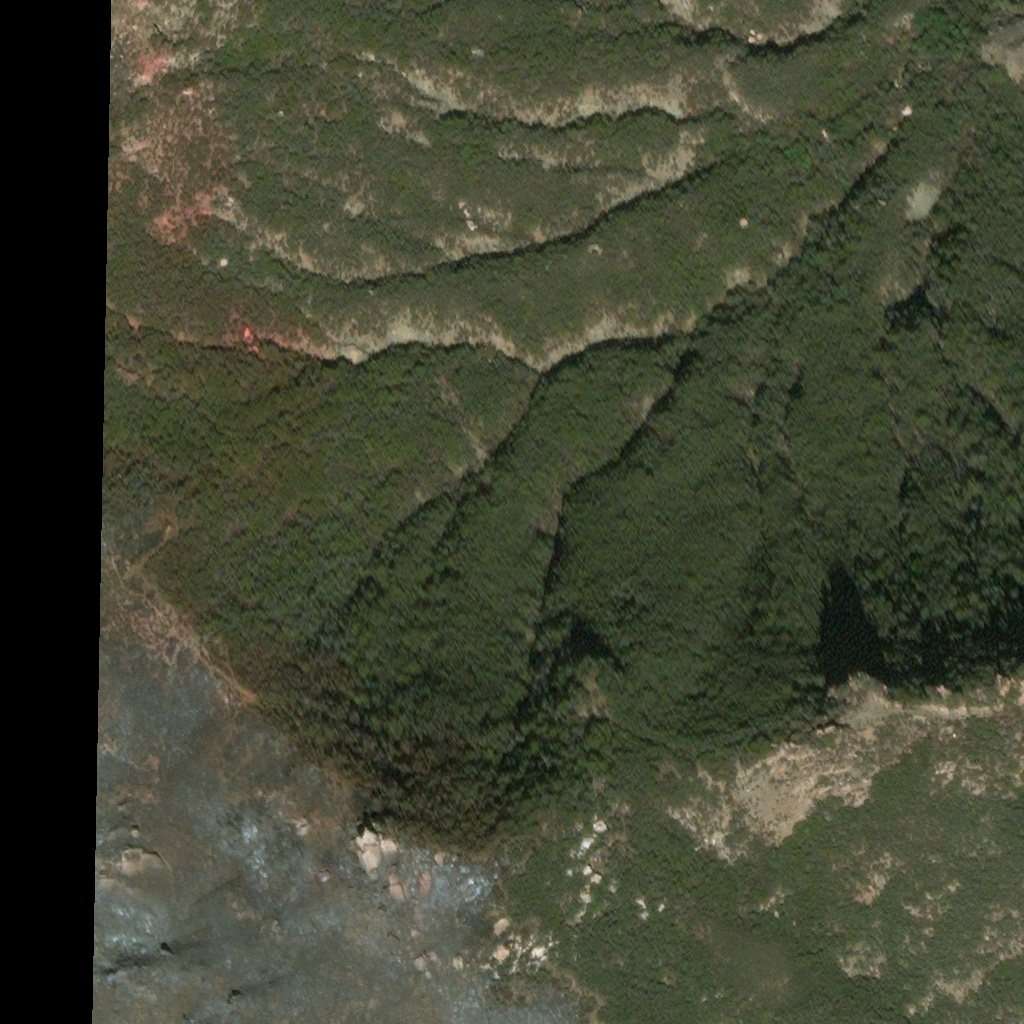0 no-damage: (472, 49, 486, 58)
